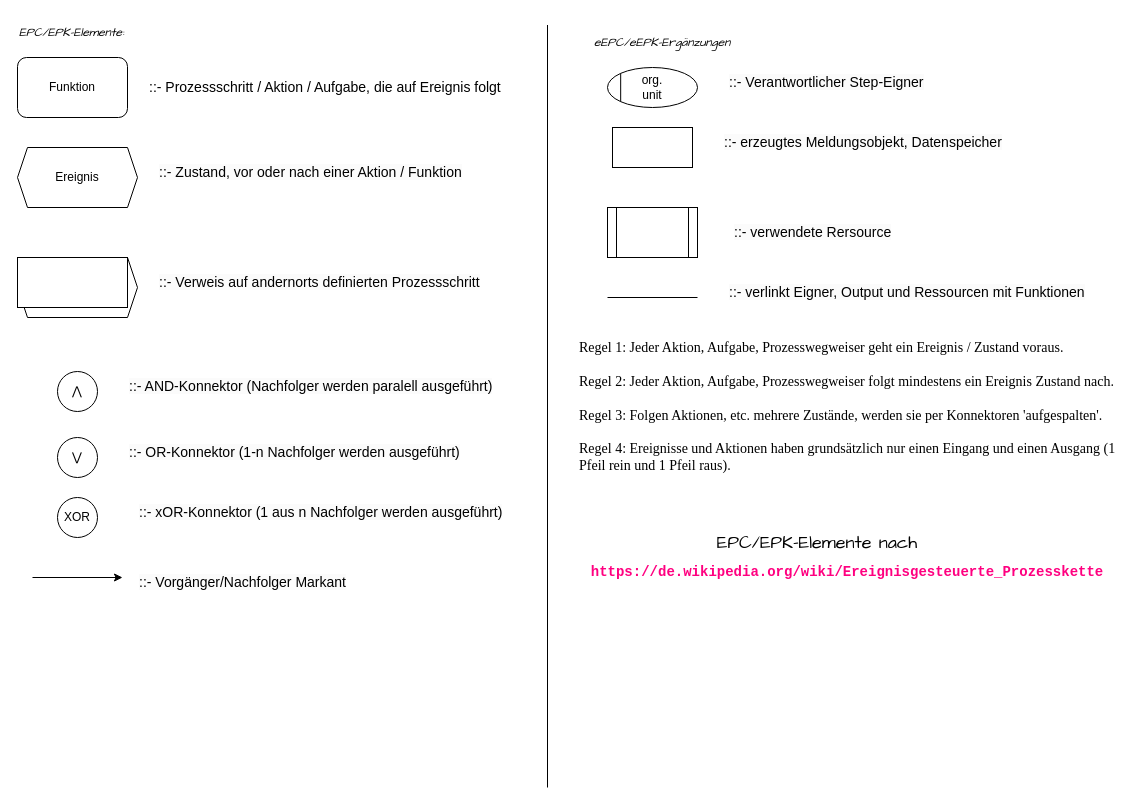
Some shapes in this 1135 by 806 pixel diagram are drawn without their labels. Each missing label, with the centre of its shape:
"information object" goes at point 652,147.
"Prozesswegweiser" goes at point 72,282.
"resource object" goes at point 652,232.
